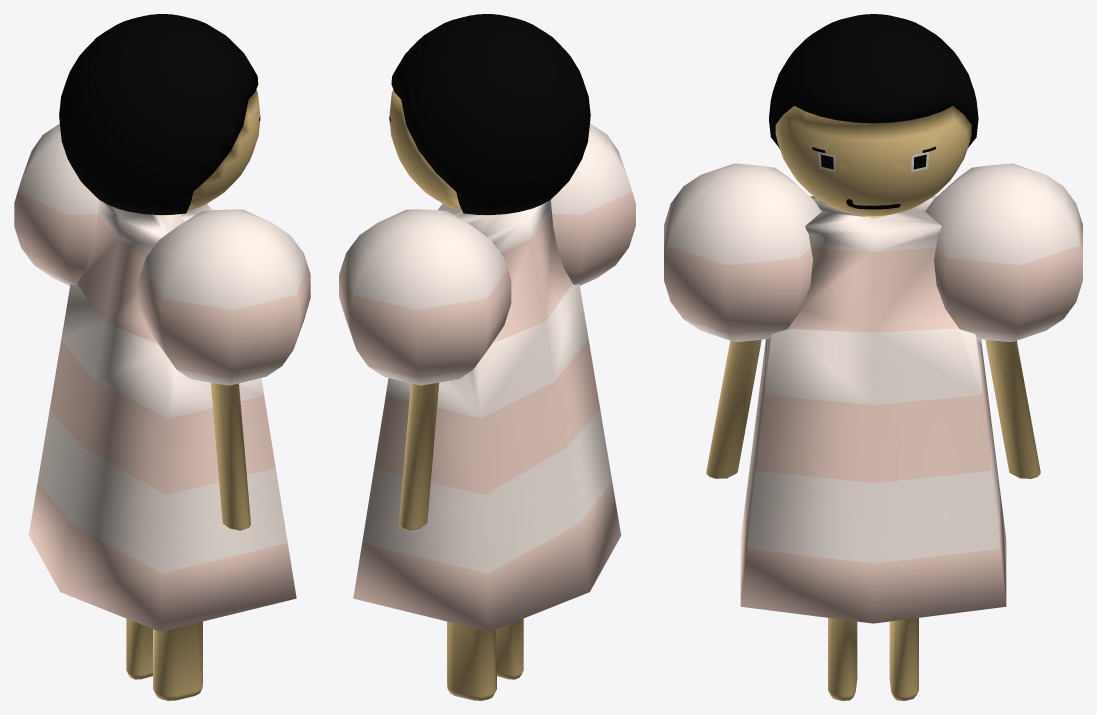
The model's file is Vivian.fbx.
3 renders of one model, left to right at view 1: azimuth 30°, elevation 25°; view 2: azimuth 150°, elevation 25°; view 3: azimuth 270°, elevation 25°, orthographic.
Parts seen in each view (by area): view 1: Cube; view 2: Cube; view 3: Cube.
Part boxes in pixels (x1=…): Cube: x1=14, y1=14, x2=310, y2=700; Cube: x1=339, y1=14, x2=635, y2=700; Cube: x1=664, y1=14, x2=1082, y2=700.
Size of the model in its own units: 150 by 462 by 262.
